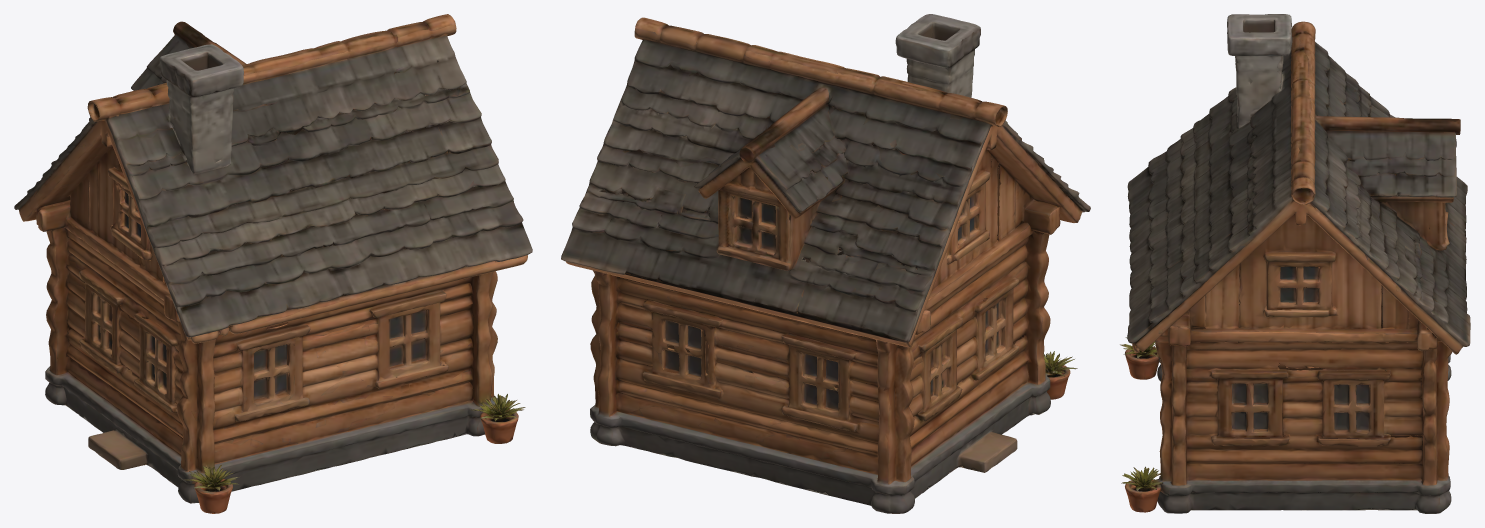
Rendered from cottage.glb.
The picture shows the model from 3 angles, left to right: view 1: azimuth 30°, elevation 25°; view 2: azimuth 150°, elevation 25°; view 3: azimuth 270°, elevation 25°; orthographic projection. The views are drawn at different scales.
Size of the model in its own units: 0.9208 by 0.9656 by 0.8239.
1 material, 1 textured.
